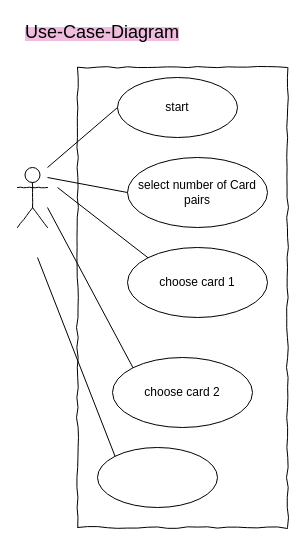
The diagram is 305 pixels wide and 545 high, and some of its shapes have lost their labels. Here are the shapes that lost their labels. From the top down, the centre of each, then its label:
At pixel 32 197: "User".
At pixel 157 477: "end".
